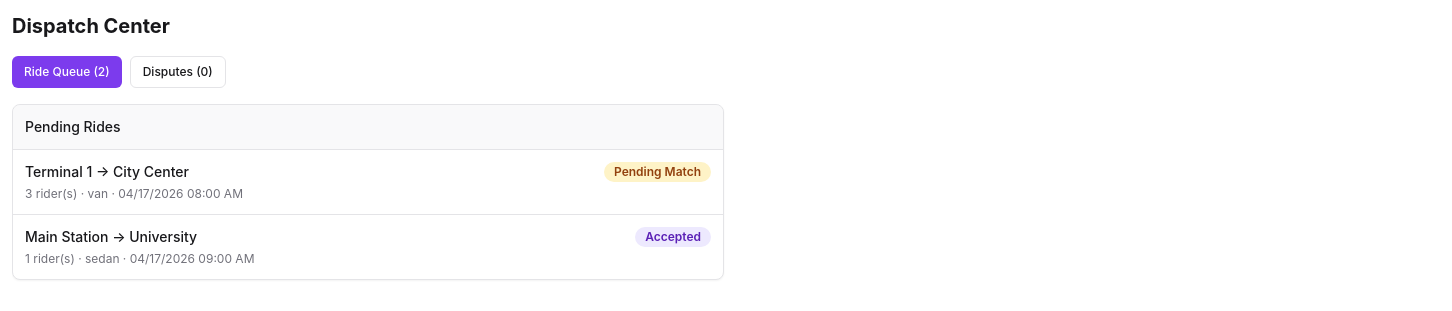
Test case: DispatchPage — ride detail panel › clicking a ride in queue shows detail panel
This screenshot has width=1452, height=311.
# click on the first ride card
Click the text "Terminal 1 → City Center": (107,172) [25, 163, 189, 180]
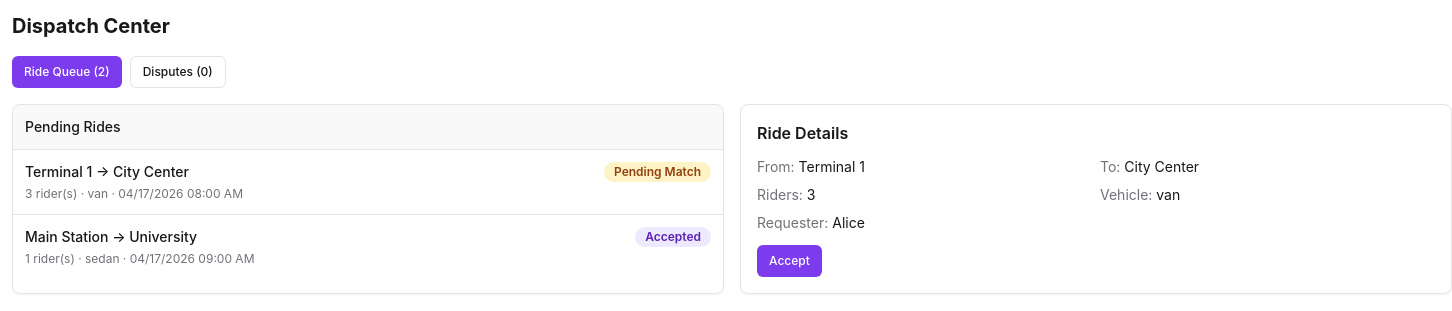
expect the heading "Ride Details" is shown: met, box [757, 123, 848, 143]
